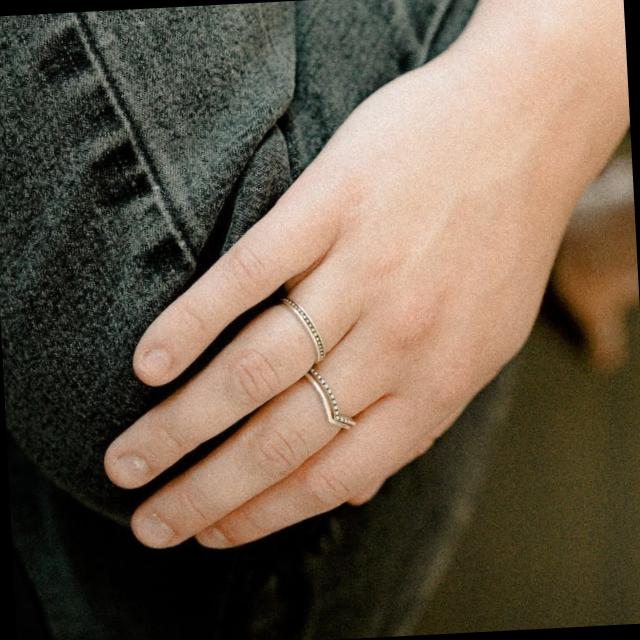Nail: (132, 511, 176, 547), (110, 449, 153, 485), (134, 347, 174, 381), (197, 527, 232, 549)
